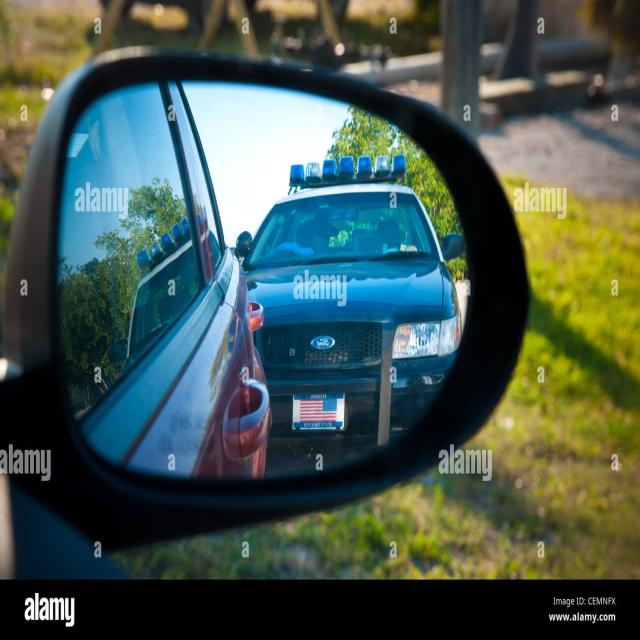cop: (235, 136, 464, 453)
